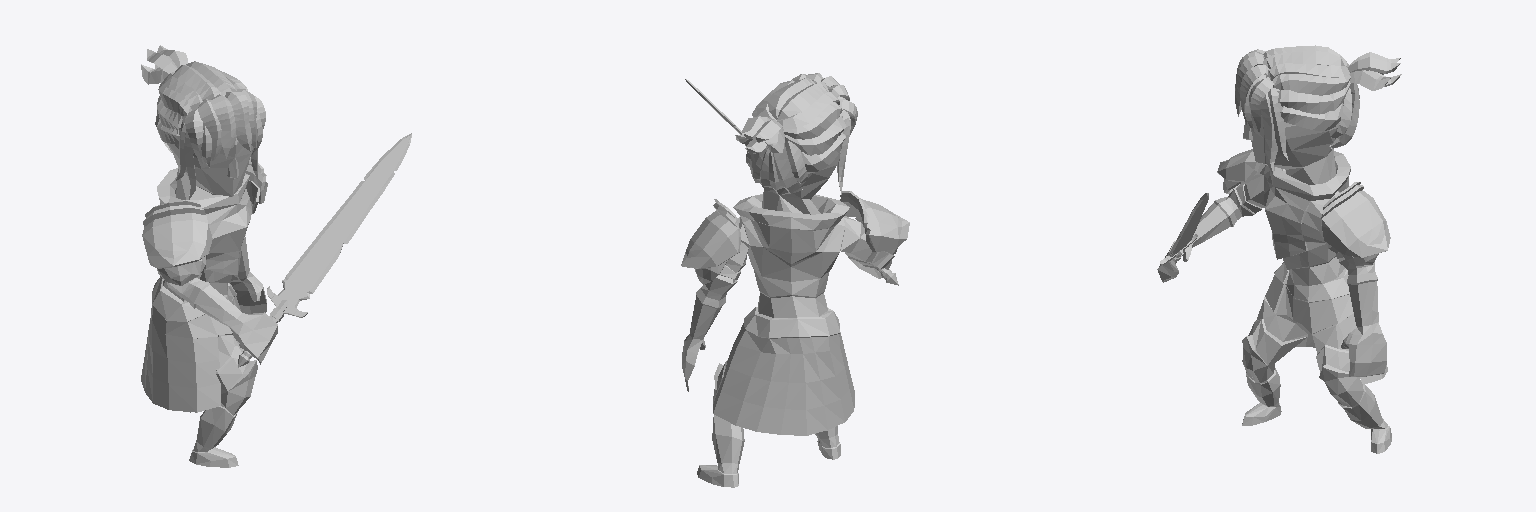
The picture shows the model from 3 angles: view 1: azimuth 30°, elevation 25°; view 2: azimuth 150°, elevation 25°; view 3: azimuth 270°, elevation 25°; orthographic projection.
Parts seen in each view (by area): view 1: Warrior.002__ncl1_29.005, Face__ncl1_29.002, Warrior_Sword_Cylinder.001, Shoulder.R__ncl1_29.001, Shoulder.L__ncl1_29.000; view 2: Warrior.002__ncl1_29.005, Face__ncl1_29.002, Shoulder.L__ncl1_29.000, Shoulder.R__ncl1_29.001; view 3: Warrior.002__ncl1_29.005, Face__ncl1_29.002, Shoulder.L__ncl1_29.000, Shoulder.R__ncl1_29.001, Warrior_Sword_Cylinder.001.
Part boxes in pixels (x1,y1,x2,y2): Warrior.002__ncl1_29.005: (141, 116, 277, 467); Face__ncl1_29.002: (141, 45, 265, 199); Warrior_Sword_Cylinder.001: (238, 133, 411, 367); Shoulder.R__ncl1_29.001: (142, 200, 212, 285); Shoulder.L__ncl1_29.000: (246, 157, 267, 213); Warrior.002__ncl1_29.005: (682, 151, 894, 487); Face__ncl1_29.002: (735, 73, 857, 194); Shoulder.L__ncl1_29.000: (681, 199, 740, 284); Shoulder.R__ncl1_29.001: (840, 191, 909, 254); Warrior.002__ncl1_29.005: (1157, 110, 1391, 453); Face__ncl1_29.002: (1235, 45, 1401, 175); Shoulder.L__ncl1_29.000: (1321, 182, 1390, 265); Shoulder.R__ncl1_29.001: (1217, 149, 1264, 193); Warrior_Sword_Cylinder.001: (1160, 193, 1208, 265).
Bounding box in the file's own units: 1.87 × 2.79 × 1.66.